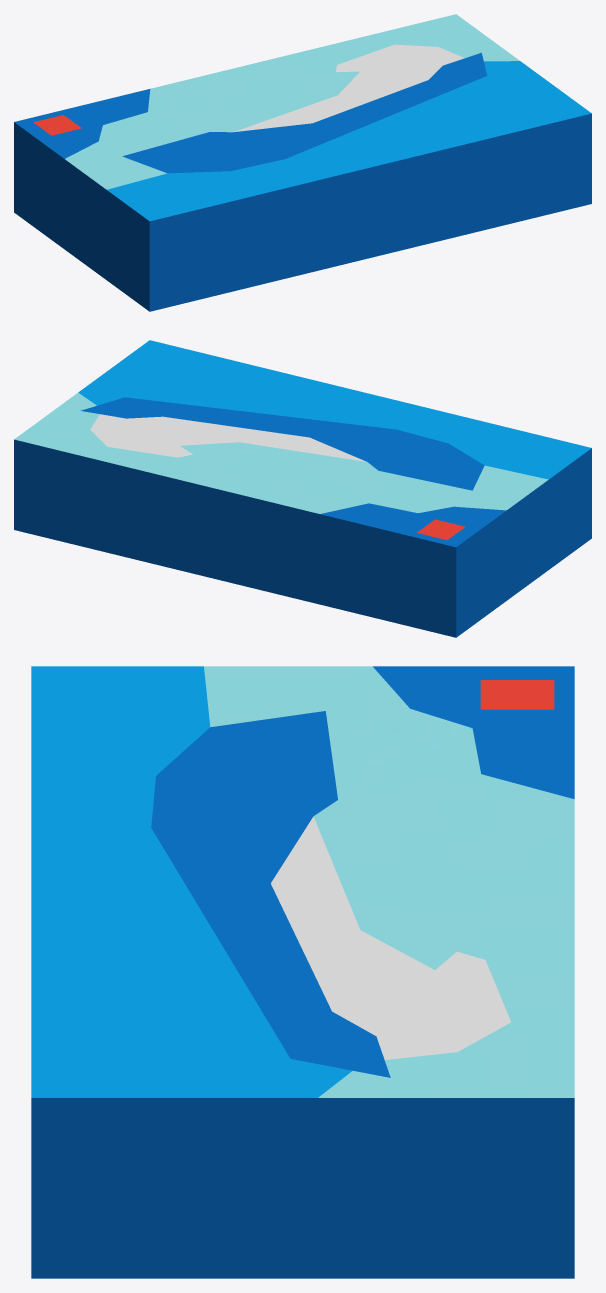
Rendered from toy_012.glb.
3 views of the same model, one above another, from view 1: azimuth 30°, elevation 25°; view 2: azimuth 150°, elevation 25°; view 3: azimuth 270°, elevation 25° (orthographic). The views are drawn at different scales.
Parts seen in each view (by area): view 1: toy_012; view 2: toy_012; view 3: toy_012.
Boxes of the visible parts, bbox=[...] form: toy_012: bbox=[14, 14, 591, 311]; toy_012: bbox=[14, 340, 591, 637]; toy_012: bbox=[31, 666, 574, 1278].
Bounding box in the file's own units: 0.6507 × 0.1272 × 0.346.
1 material, 1 textured.
